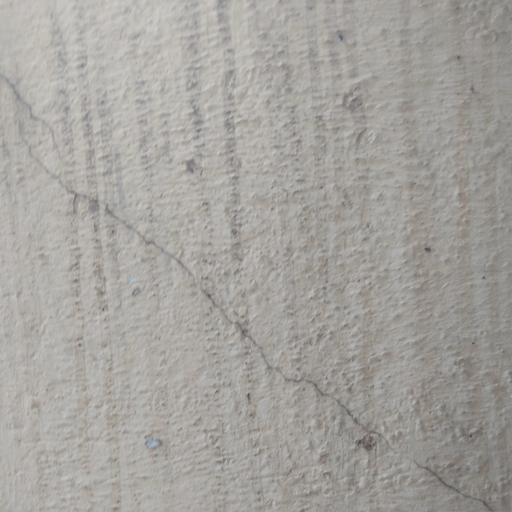minor_crack: (5, 54, 512, 508)
